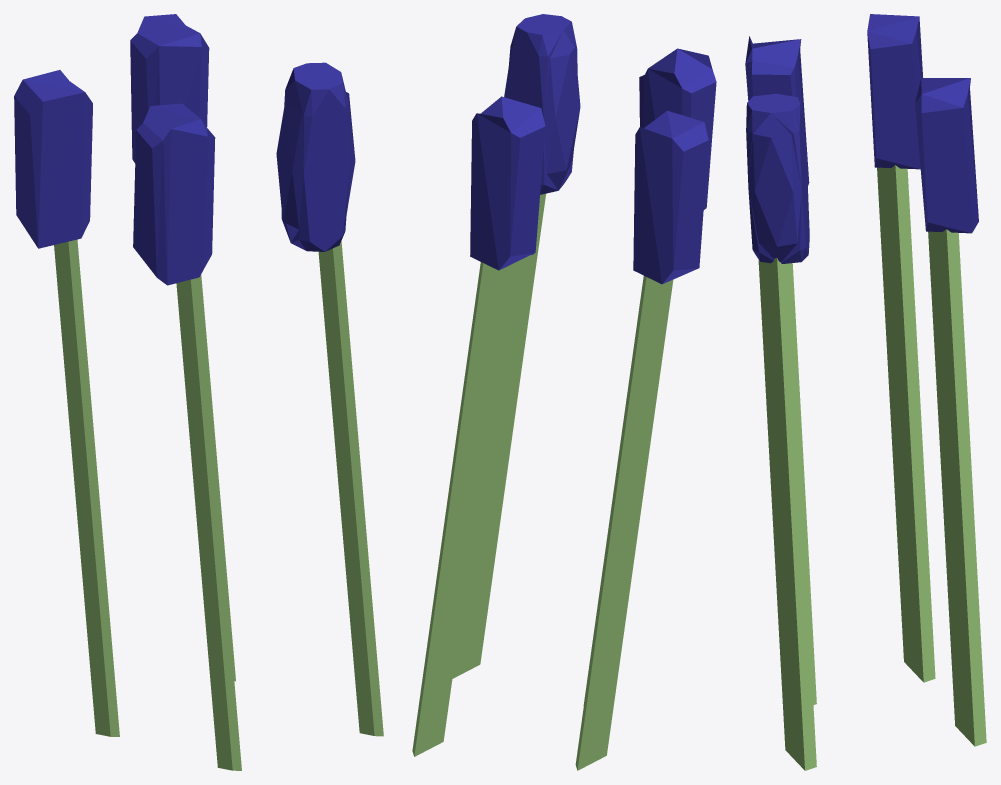
The model's file is ラベンダー面166.fbx.
The picture shows the model from 3 angles, left to right: view 1: azimuth 30°, elevation 25°; view 2: azimuth 150°, elevation 25°; view 3: azimuth 270°, elevation 25°; orthographic projection. The views are drawn at different scales.
Visible parts, largest first — view 1: 立方体.006, 立方体.004, 立方体.002, 立方体.003, 立方体.001, 立方体.005, 立方体.007, 立方体.008; view 2: 立方体.008, 立方体.003, 立方体.005, 立方体.002, 立方体.007, 立方体.004, 立方体.006; view 3: 立方体.008, 立方体.003, 立方体.005, 立方体.004, 立方体.007, 立方体.002, 立方体.006, 立方体.001.
Part boxes in pixels (<box>): 立方体.006: <box>133,103,215,285</box>; 立方体.004: <box>276,62,355,251</box>; 立方体.002: <box>14,70,92,248</box>; 立方体.003: <box>54,239,119,736</box>; 立方体.001: <box>176,277,241,770</box>; 立方体.005: <box>318,241,383,736</box>; 立方体.007: <box>130,14,209,163</box>; 立方体.008: <box>200,274,235,681</box>; 立方体.008: <box>412,262,510,756</box>; 立方体.003: <box>575,276,673,770</box>; 立方体.005: <box>452,193,545,678</box>; 立方体.002: <box>633,110,708,284</box>; 立方体.007: <box>470,96,545,270</box>; 立方体.004: <box>504,14,580,194</box>; 立方体.006: <box>639,48,716,209</box>; 立方体.008: <box>928,229,986,746</box>; 立方体.003: <box>877,165,935,682</box>; 立方体.005: <box>758,257,816,770</box>; 立方体.004: <box>746,93,809,263</box>; 立方体.007: <box>915,78,978,233</box>; 立方体.002: <box>867,14,922,169</box>; 立方体.006: <box>745,36,809,185</box>; 立方体.001: <box>789,263,816,704</box>.
Size of the model in its own units: 179 by 379 by 131.
